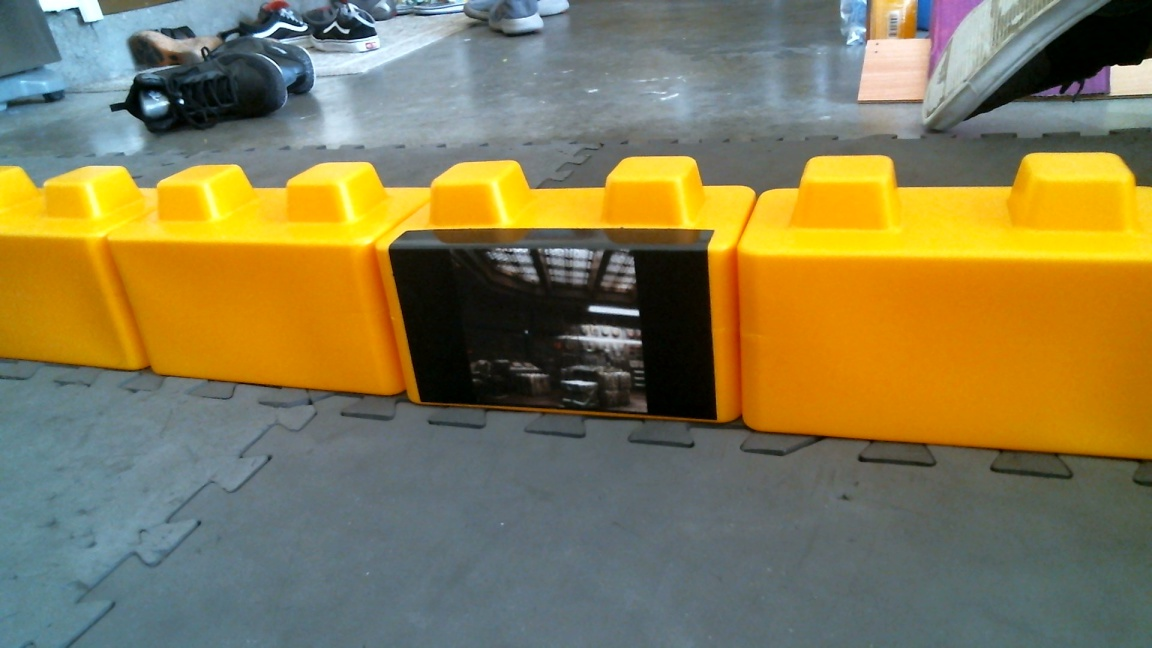center: (103, 153, 1152, 463)
right: (1, 161, 738, 430)
